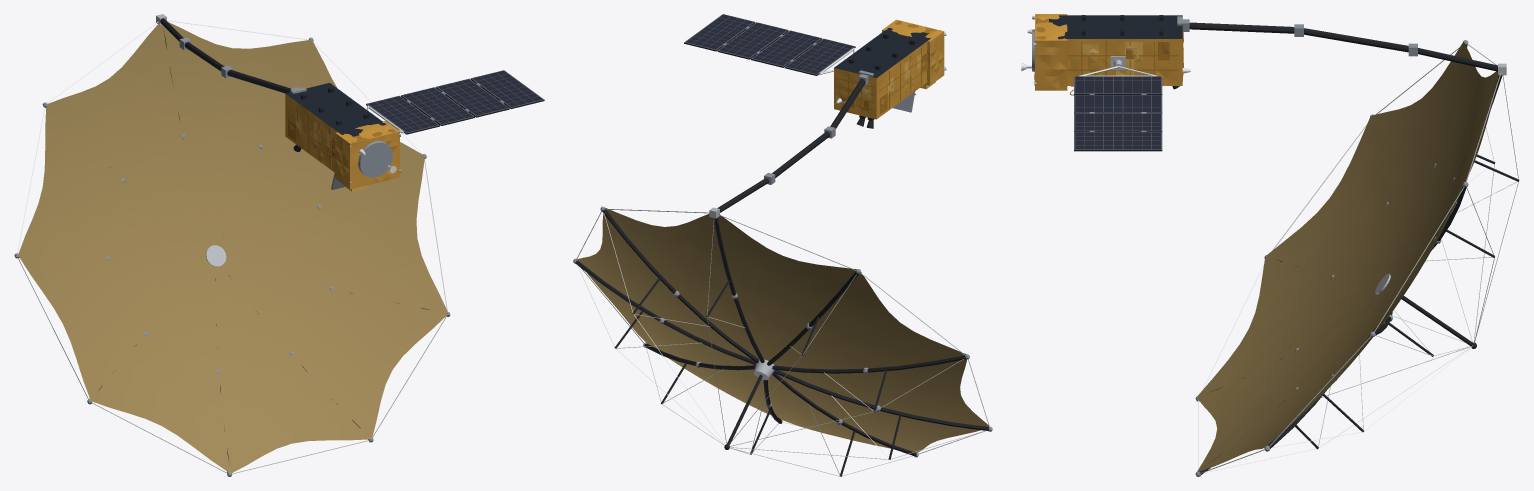
File: biomass.glb
3 renders of one model, left to right at view 1: azimuth 30°, elevation 25°; view 2: azimuth 150°, elevation 25°; view 3: azimuth 270°, elevation 25°, orthographic. The views are drawn at different scales.
Visible parts, largest first — view 1: body, foil, solar-panel; view 2: body, foil, solar-panel; view 3: body, foil, solar-panel.
Part boxes in pixels (x1=…): body: x1=14, y1=14, x2=544, y2=476; foil: x1=285, y1=83, x2=399, y2=191; solar-panel: x1=366, y1=70, x2=544, y2=133; body: x1=573, y1=22, x2=992, y2=476; foil: x1=834, y1=19, x2=944, y2=119; solar-panel: x1=684, y1=14, x2=855, y2=74; body: x1=1021, y1=15, x2=1519, y2=476; foil: x1=1034, y1=14, x2=1183, y2=90; solar-panel: x1=1074, y1=76, x2=1162, y2=149.
Size of the model in its own units: 12.06 by 10.64 by 11.55.
